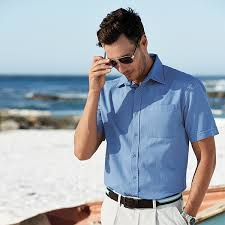F_belt: (100, 184, 183, 205)
F_shirt: (67, 62, 222, 197)
